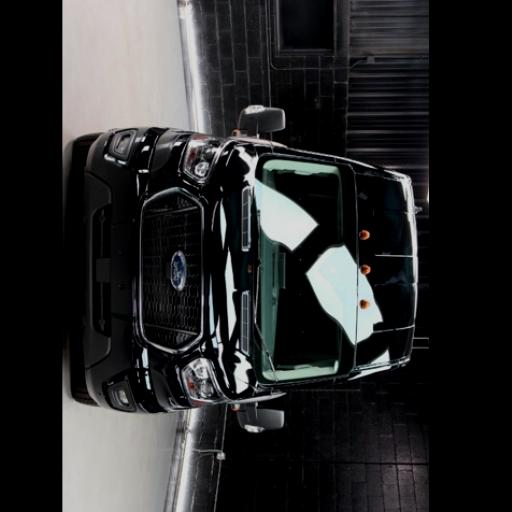van: (73, 106, 416, 434)
